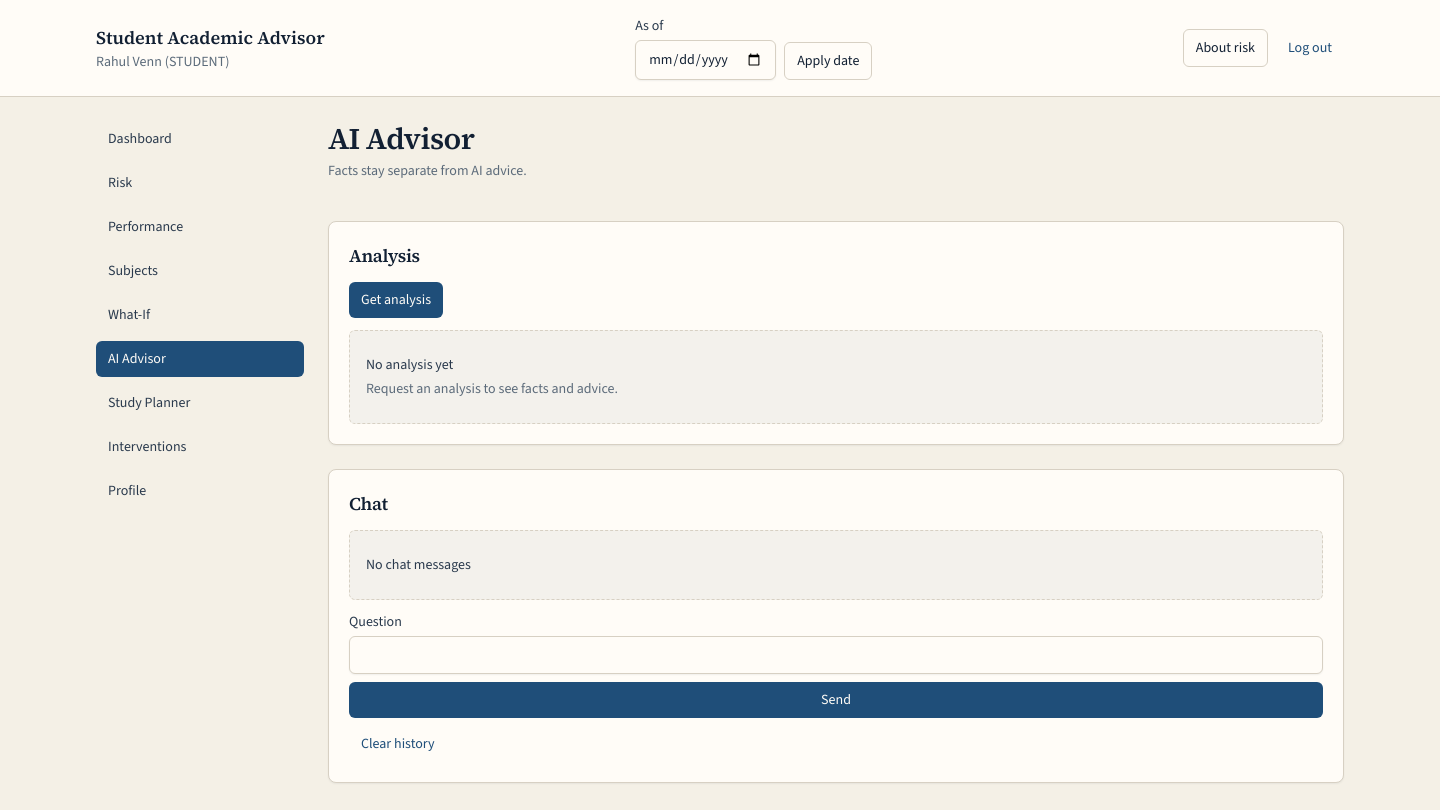
Test case: AI Advisor page › keeps facts and advice separate and shows the fallback banner
The image size is (1440, 810).
Expected: the heading "AI Advisor" is shown, [328, 118, 474, 159]
Expected: the text "No chat messages" is shown, [366, 555, 471, 574]
Click the button "Get analysis". click: (396, 300)
box: [349, 282, 443, 318]
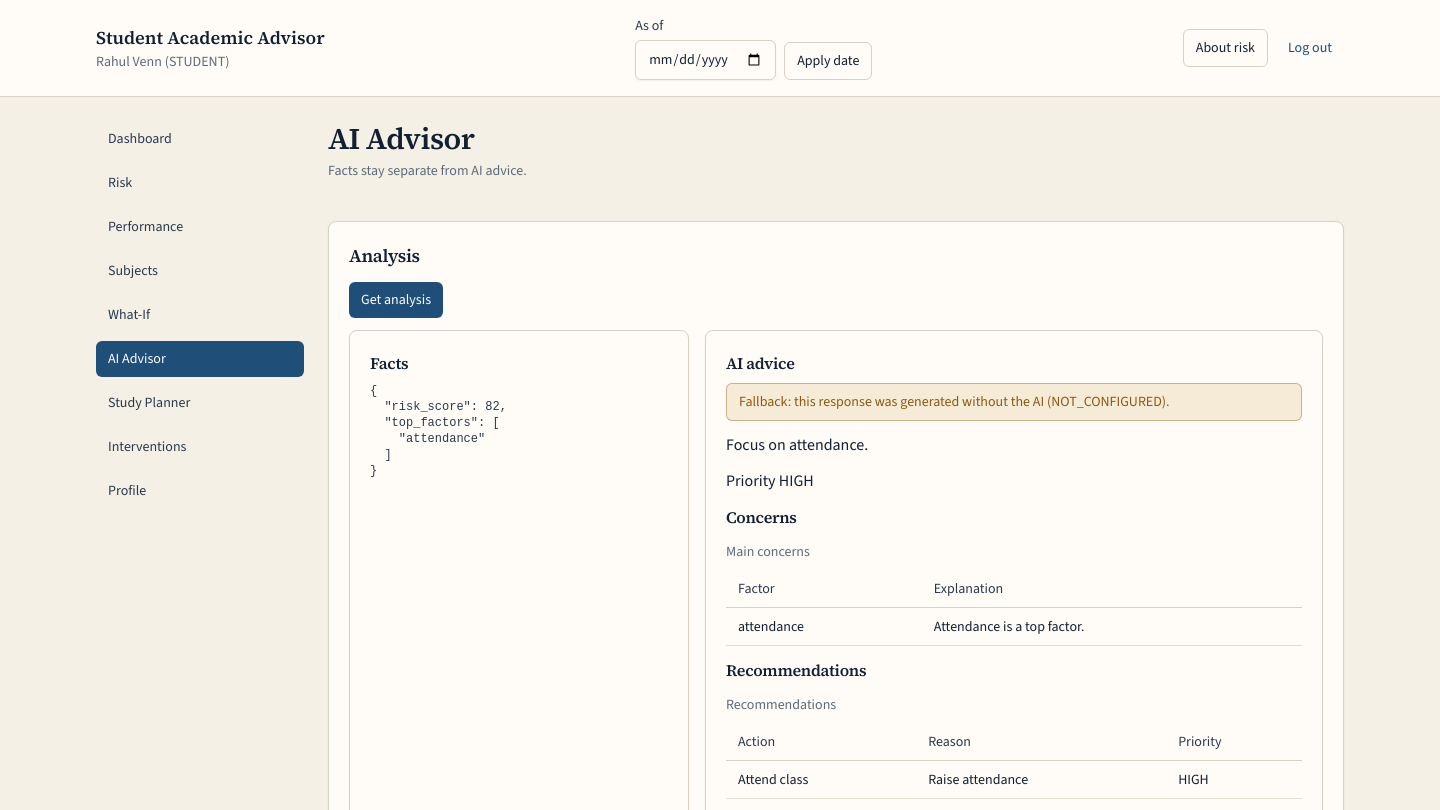
Result: the heading "AI advice" is shown at [726, 352, 794, 374]
Result: the text "Fallback: this response was generated without the AI (NOT_CONFIGURED)." is shown at [726, 383, 1302, 421]
Result: the text "Focus on attendance." is shown at [726, 434, 868, 455]
